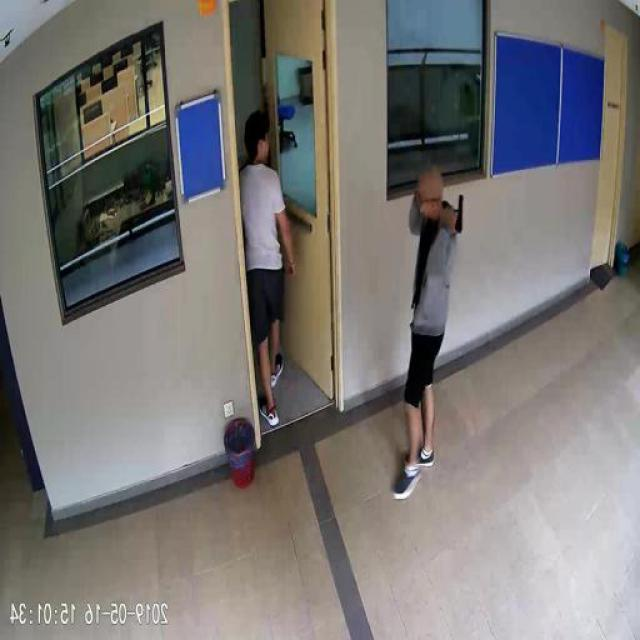weapon: (444, 194, 465, 233)
